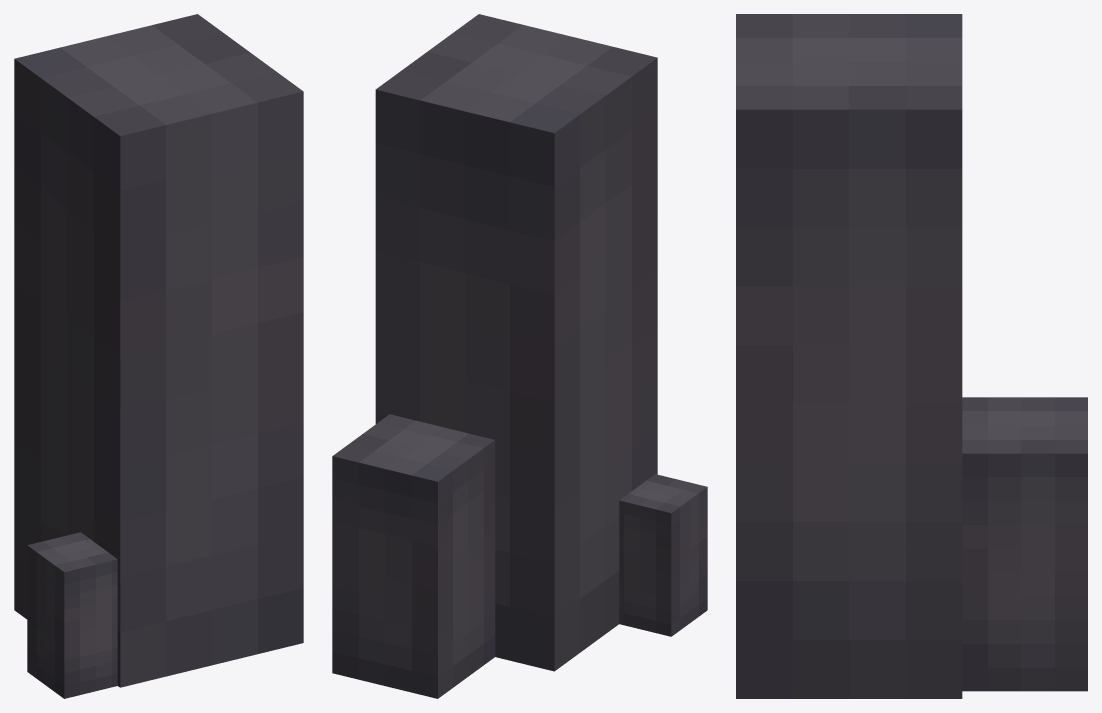
The model's file is ilmenite_crystal_three.obj.
3 views of the same model, side by side, from view 1: azimuth 30°, elevation 25°; view 2: azimuth 150°, elevation 25°; view 3: azimuth 270°, elevation 25° (orthographic). The views are drawn at different scales.
Visible parts, largest first — view 1: Crystal5_Cube.008; view 2: Crystal5_Cube.008; view 3: Crystal5_Cube.008.
Part boxes in pixels (<box>): Crystal5_Cube.008: <box>14,14,303,698</box>; Crystal5_Cube.008: <box>332,14,707,698</box>; Crystal5_Cube.008: <box>736,14,1087,698</box>.
Bounding box in the file's own units: 0.1959 × 0.4361 × 0.2358.
